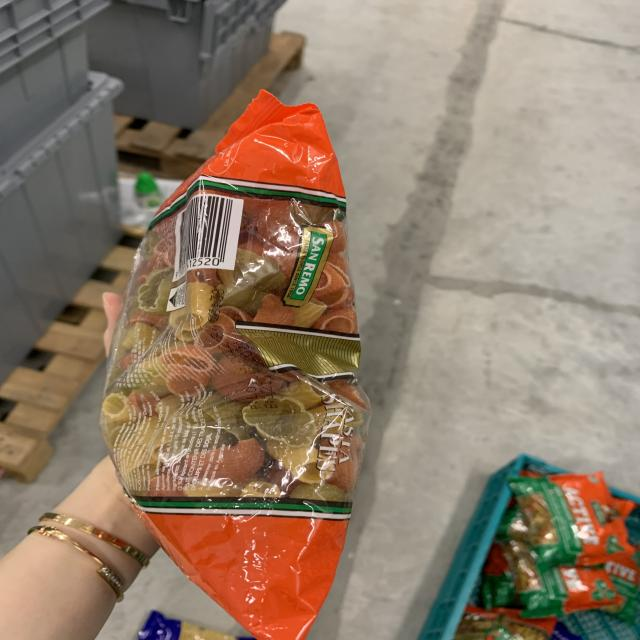object_name: (122, 127, 364, 610)
